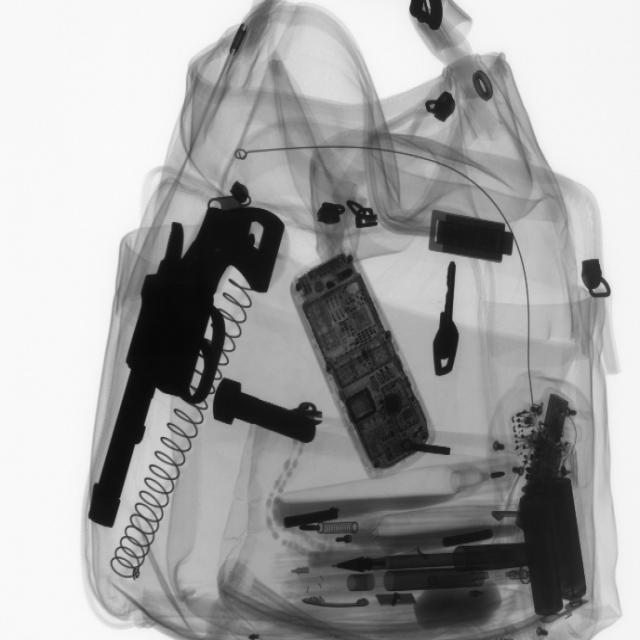GUN: (87, 194, 284, 539)
